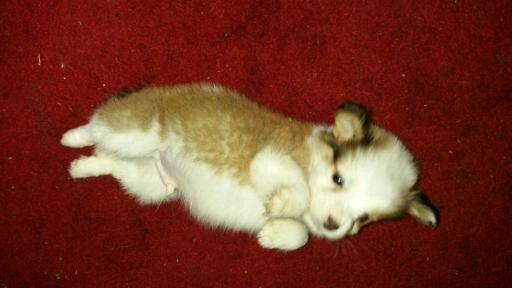puppy-dog: (56, 81, 440, 253)
